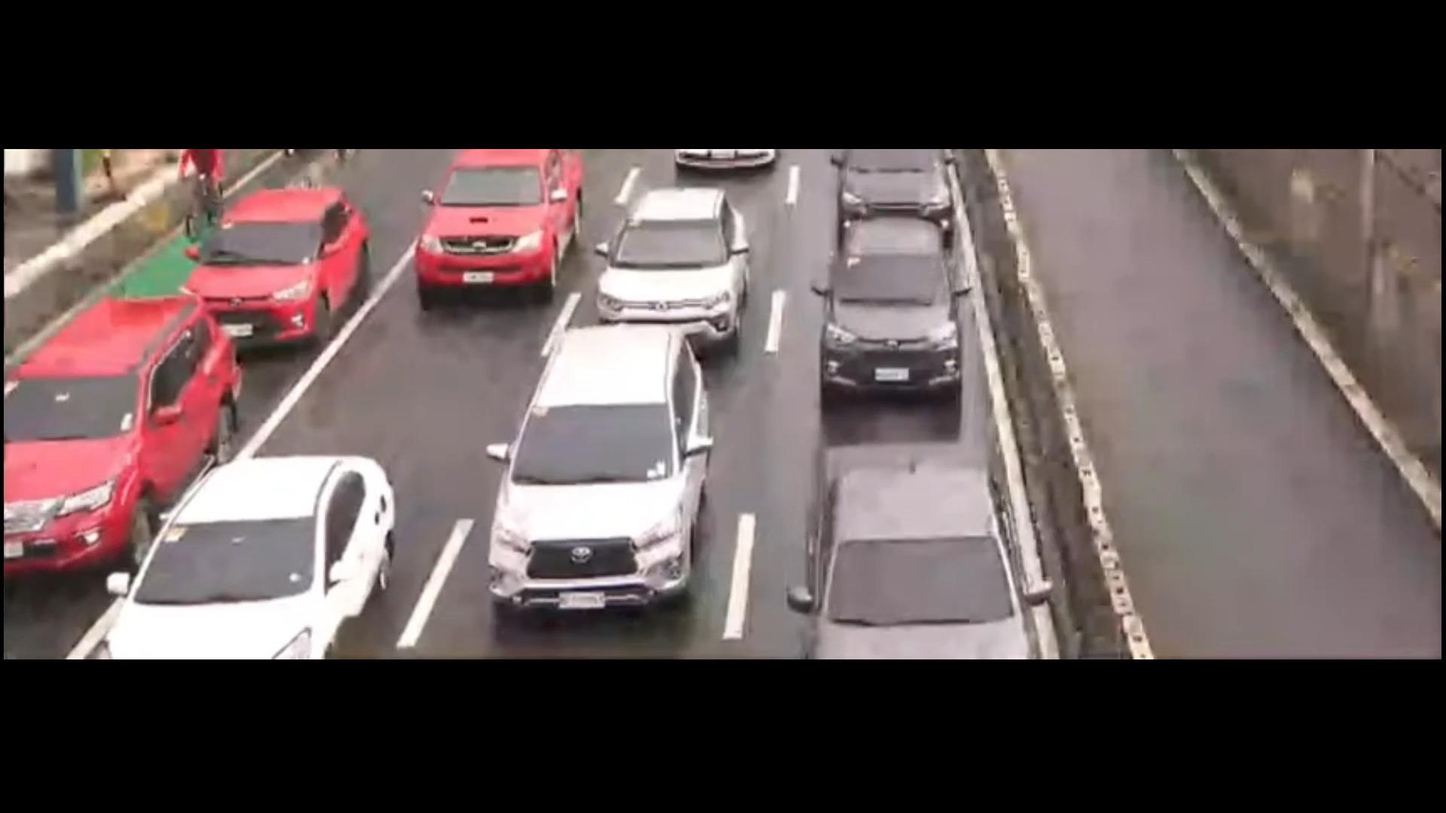Bicycle: (155, 138, 232, 268)
Pickup: (777, 418, 1064, 661)
SUV: (478, 315, 735, 631), (0, 290, 264, 568), (174, 160, 401, 351), (808, 202, 993, 411), (579, 185, 767, 362), (417, 146, 595, 307), (834, 142, 968, 233)
Sedan: (82, 431, 418, 661)
